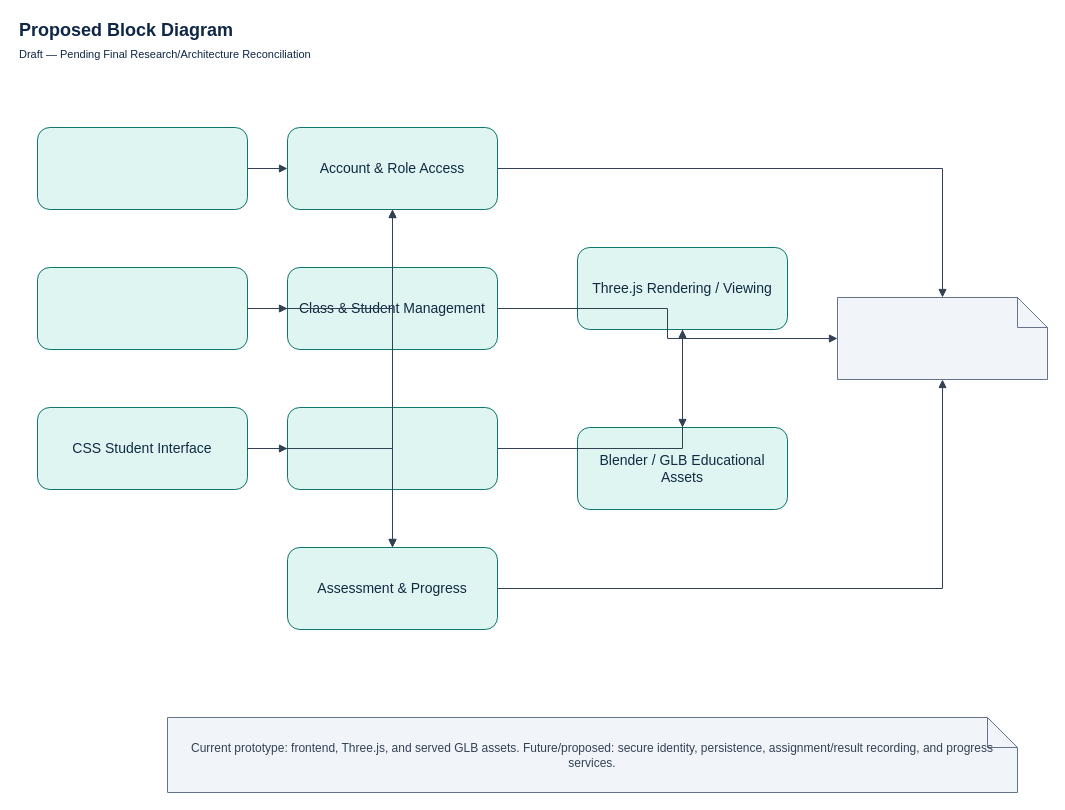
Some shapes in this 1065 by 810 pixel diagram are drawn without their labels. The shapes that lost their labels are listed below. From the top down, each one's box as (x1, y1, x2, y2) in pixels, then its label:
(36, 126, 248, 210): Principal Interface
(36, 266, 248, 350): CSS Instructor Interface
(836, 296, 1048, 380): Conceptual Future Data Management
(286, 406, 498, 490): Learning Activities
